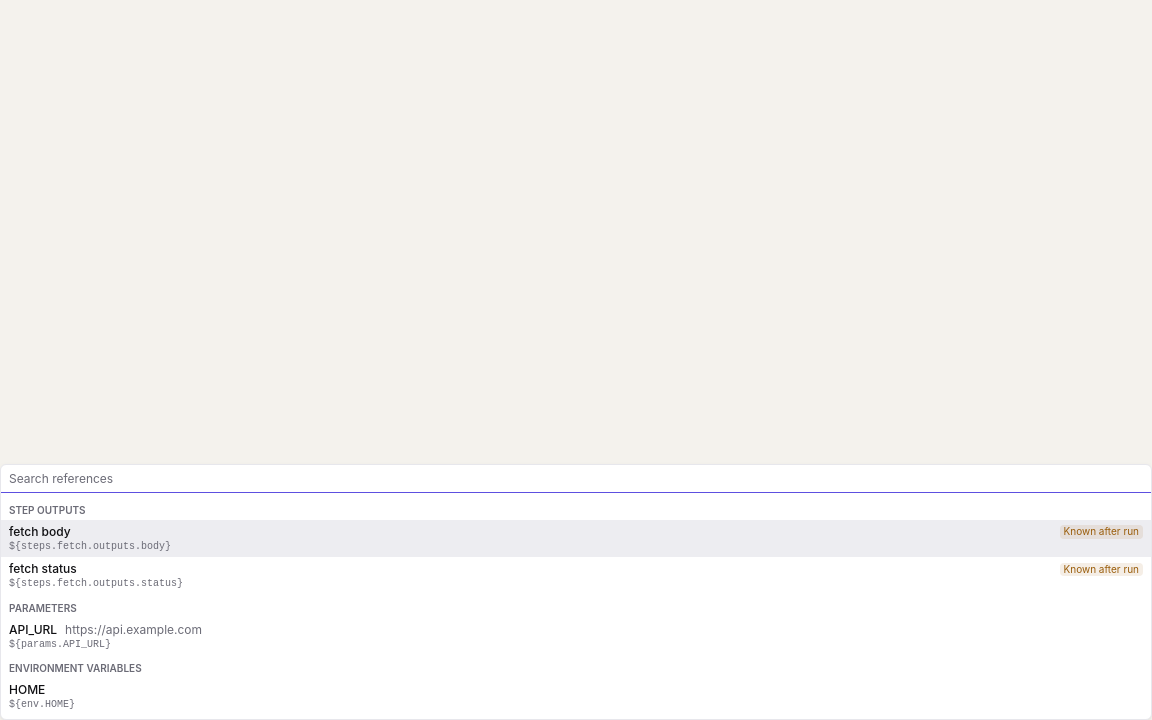
Scenario: ReferencePicker › shows an empty state when nothing matches
(page scrolled)
Type "zzz" into the field labelled "Search references". click: [576, 479]
box: [1,465,1151,493]
(page scrolled)
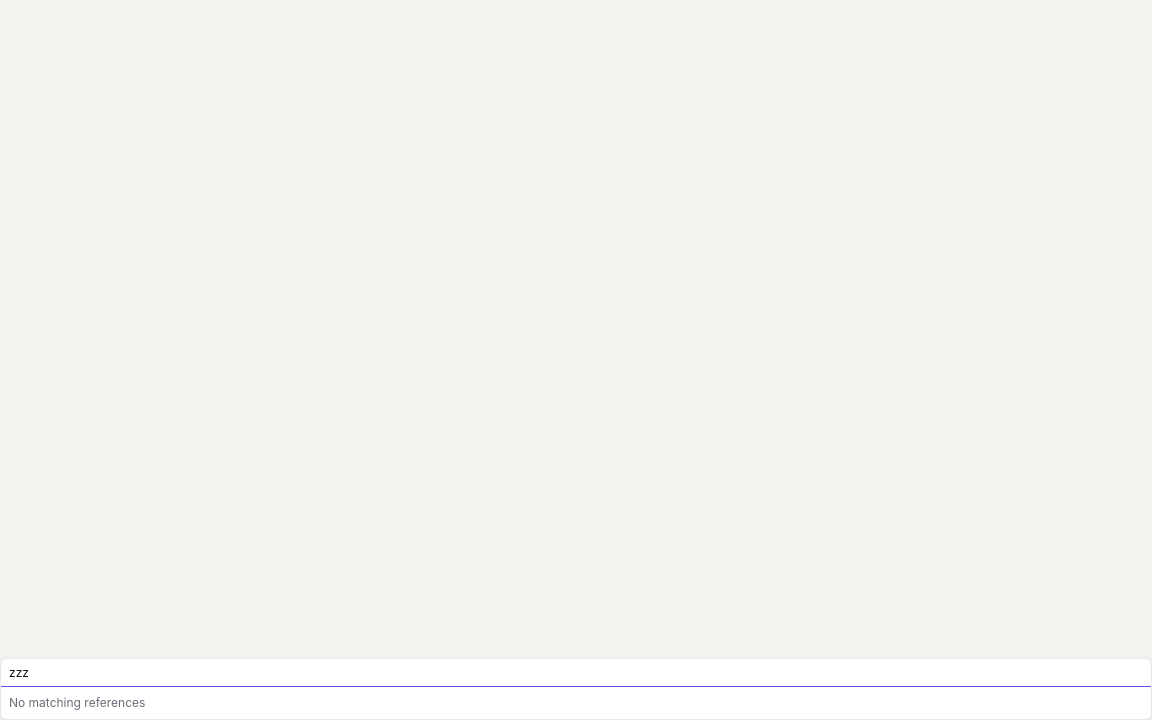
Check: the text "No matching references" is shown, box [9,695,145,710]
Check: no options are shown
